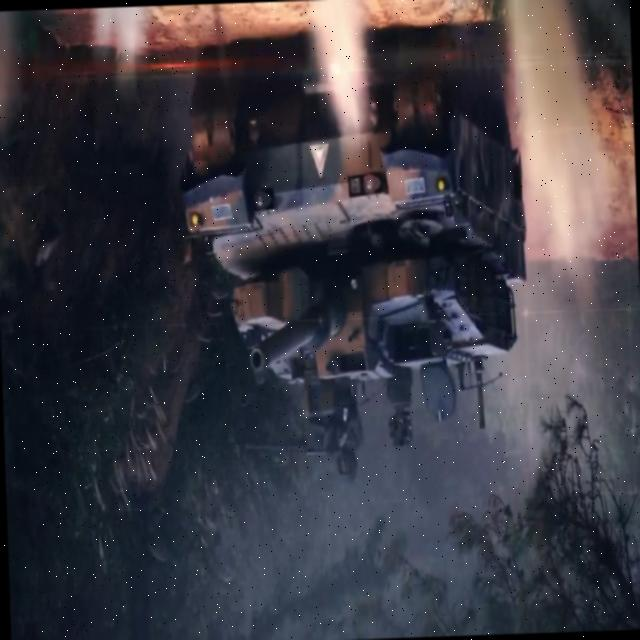korea tank: (174, 12, 536, 490)
